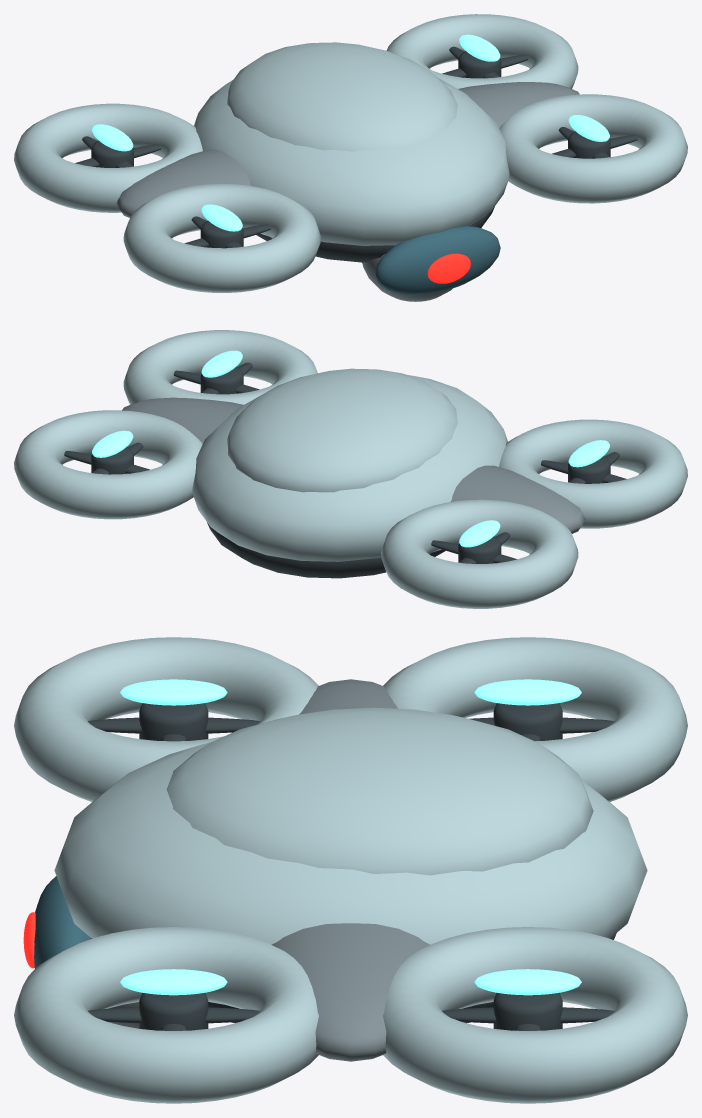
Rendered from recon-drone.glb.
3 renders of one model, top to bottom at view 1: azimuth 30°, elevation 25°; view 2: azimuth 150°, elevation 25°; view 3: azimuth 270°, elevation 25°, orthographic. The views are drawn at different scales.
Parts seen in each view (by area): view 1: Seamless ceramic shell, Dorsal armor, Polished enclosed fan, Polished enclosed fan.002, Polished enclosed fan.001, Polished enclosed fan.003, Obsidian optical visor, Swept fan pylon, Swept fan pylon.001, Underbody sensor band, Tracking eye, Duct motor.003 (+8 smaller); view 2: Dorsal armor, Seamless ceramic shell, Polished enclosed fan.001, Polished enclosed fan.003, Polished enclosed fan, Polished enclosed fan.002, Swept fan pylon, Underbody sensor band, Swept fan pylon.001, Duct motor.002, Duct motor.001, Duct motor.003 (+5 smaller); view 3: Dorsal armor, Seamless ceramic shell, Polished enclosed fan.002, Polished enclosed fan.003, Polished enclosed fan, Polished enclosed fan.001, Swept fan pylon.001, Obsidian optical visor, Duct motor, Duct motor.002, Duct motor.003, Running light (+9 smaller).
Part boxes in pixels (box(x1,y1,x2,y2)): Seamless ceramic shell: box(194, 78, 509, 245); Dorsal armor: box(227, 42, 457, 151); Polished enclosed fan: box(123, 184, 320, 292); Polished enclosed fan.002: box(499, 94, 687, 203); Polished enclosed fan.001: box(14, 103, 202, 212); Polished enclosed fan.003: box(386, 14, 578, 88); Obsidian optical visor: box(375, 226, 500, 295); Swept fan pylon: box(116, 149, 251, 217); Swept fan pylon.001: box(458, 82, 579, 127); Underbody sensor band: box(256, 206, 494, 262); Tracking eye: box(427, 253, 470, 283); Duct motor.003: box(458, 51, 501, 78); Dorsal armor: box(227, 368, 457, 492); Seamless ceramic shell: box(192, 375, 507, 561); Polished enclosed fan.001: box(381, 499, 578, 608); Polished enclosed fan.003: box(14, 410, 202, 519); Polished enclosed fan: box(499, 419, 687, 528); Polished enclosed fan.002: box(123, 330, 317, 404); Swept fan pylon: box(450, 465, 585, 533); Underbody sensor band: box(207, 522, 445, 578); Swept fan pylon.001: box(122, 397, 243, 443); Duct motor.002: box(200, 367, 243, 394); Duct motor.001: box(458, 536, 501, 563); Duct motor.003: box(91, 447, 133, 474); Dorsal armor: box(166, 707, 593, 875); Seamless ceramic shell: box(54, 742, 647, 944); Polished enclosed fan.002: box(14, 927, 318, 1103); Polished enclosed fan.003: box(383, 927, 687, 1103); Polished enclosed fan: box(14, 637, 318, 801); Polished enclosed fan.001: box(383, 637, 687, 801); Swept fan pylon.001: box(271, 923, 430, 1061); Obsidian optical visor: box(34, 876, 90, 968); Duct motor: box(139, 703, 208, 740); Duct motor.002: box(139, 993, 208, 1030); Duct motor.003: box(493, 993, 562, 1030); Running light: box(120, 679, 227, 705).
Bounding box in the file's own units: 2.61 × 0.81 × 1.75.
